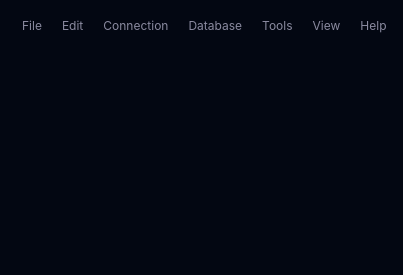
MenuBar › switches to another menu when a different label is clicked
Click the menu item "File" at (32, 26), box [12,14,52,38]
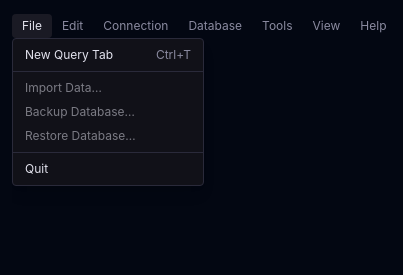
Expected: the text "New Query Tab" is shown, [25,47,113,63]
Click the menu item "Edit" at (73, 26), box [52,14,93,38]
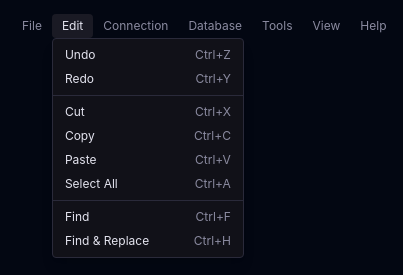
Expected: the menu item "New Query Tab" is gone
Expected: the text "Undo" is shown, [65,47,96,63]
